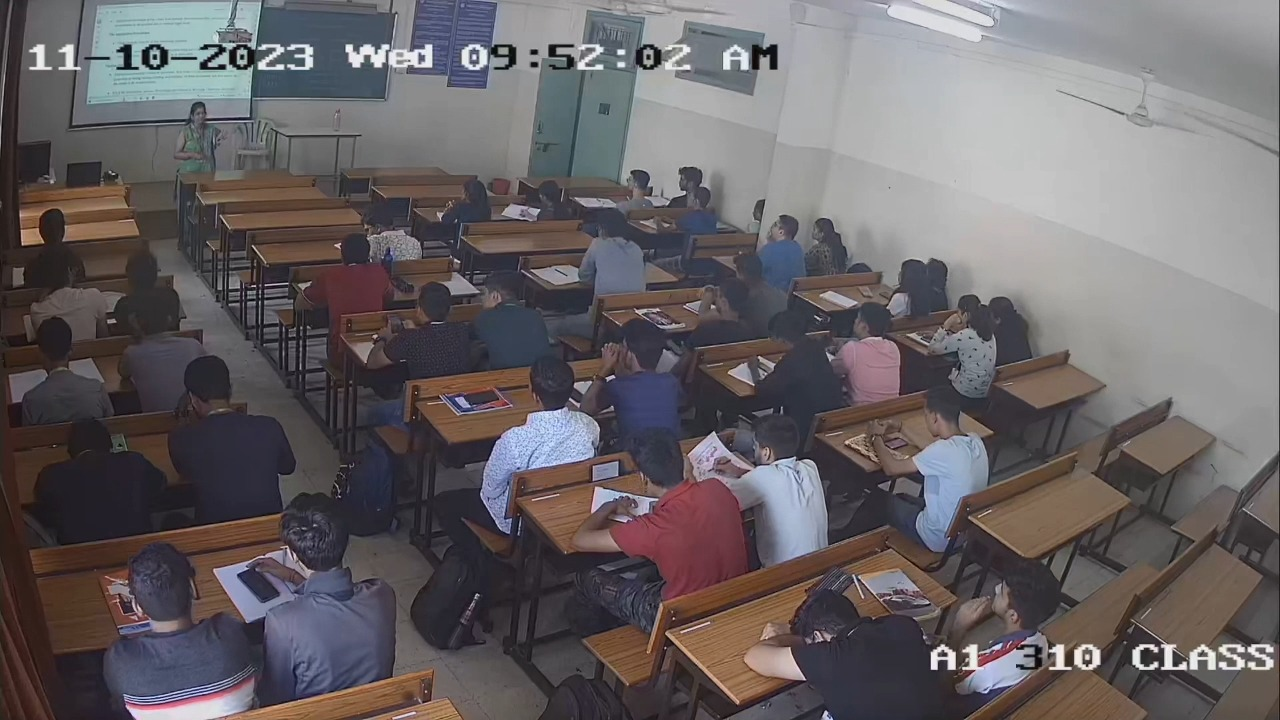cell-phones: (234, 563, 281, 605), (589, 458, 623, 483), (462, 387, 501, 406), (385, 311, 405, 336), (884, 436, 909, 451), (571, 385, 584, 405), (857, 284, 874, 299)
person: (577, 425, 744, 593), (273, 491, 402, 699), (485, 354, 601, 473), (875, 386, 990, 499), (367, 282, 475, 377), (884, 259, 930, 317)
